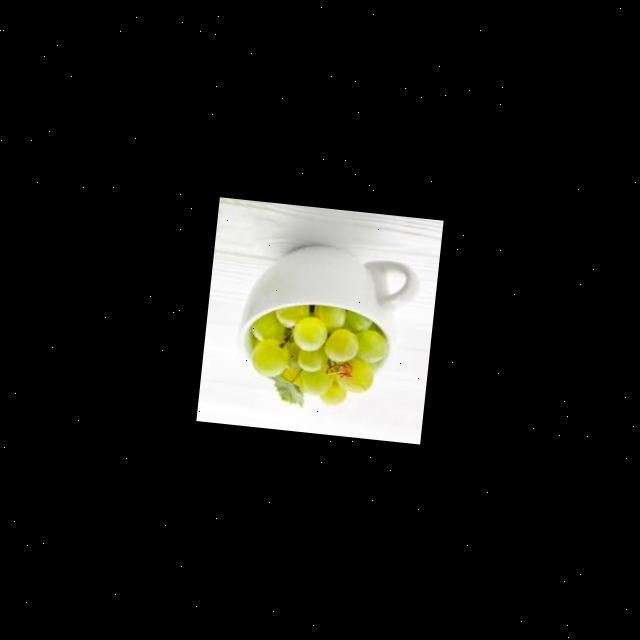grape: (242, 298, 390, 416)
